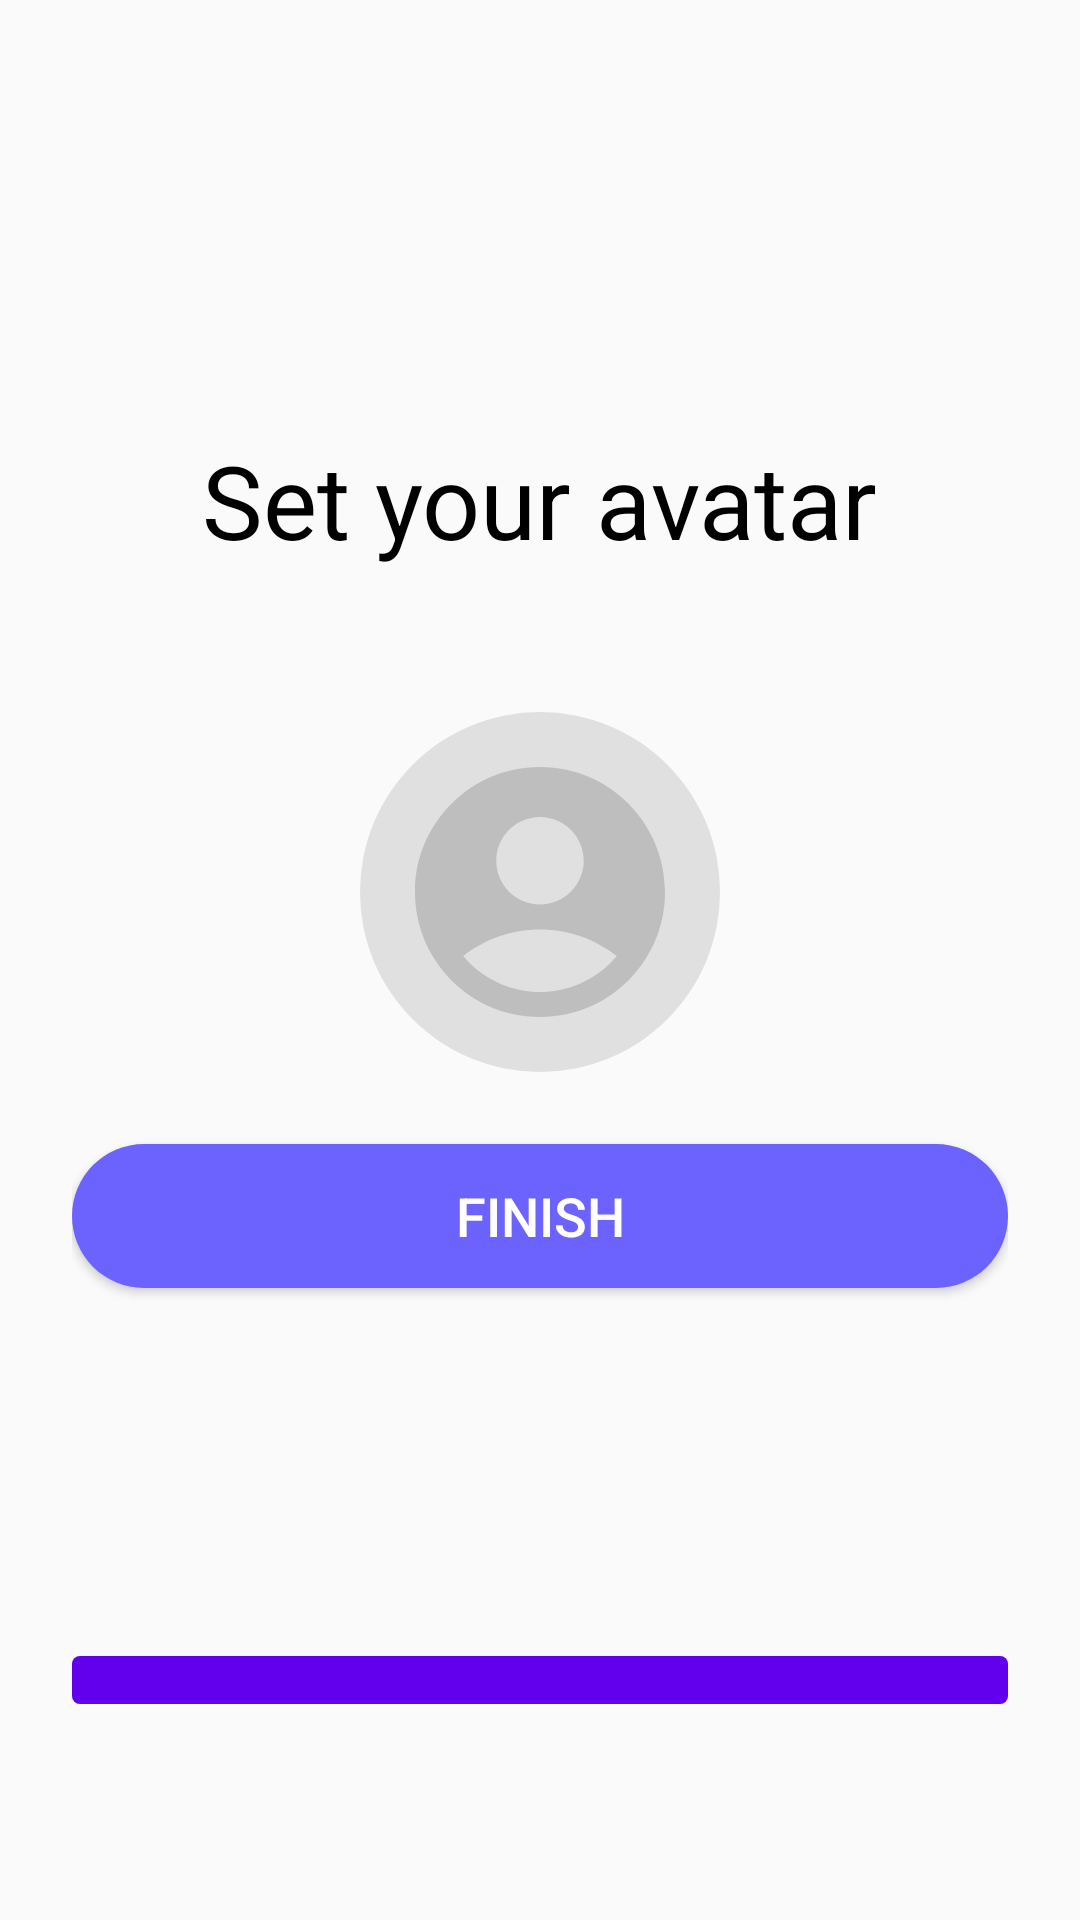

Icon bounding boxes for this 1080*1920 phone screenshot, format [x1=x1, y1=y1, x2=x2, y2=y2]:
account circle: [x1=360, y1=712, x2=720, y2=1072]
